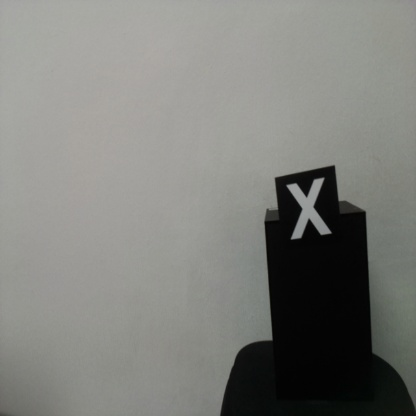id_13: (275, 175, 341, 253)
